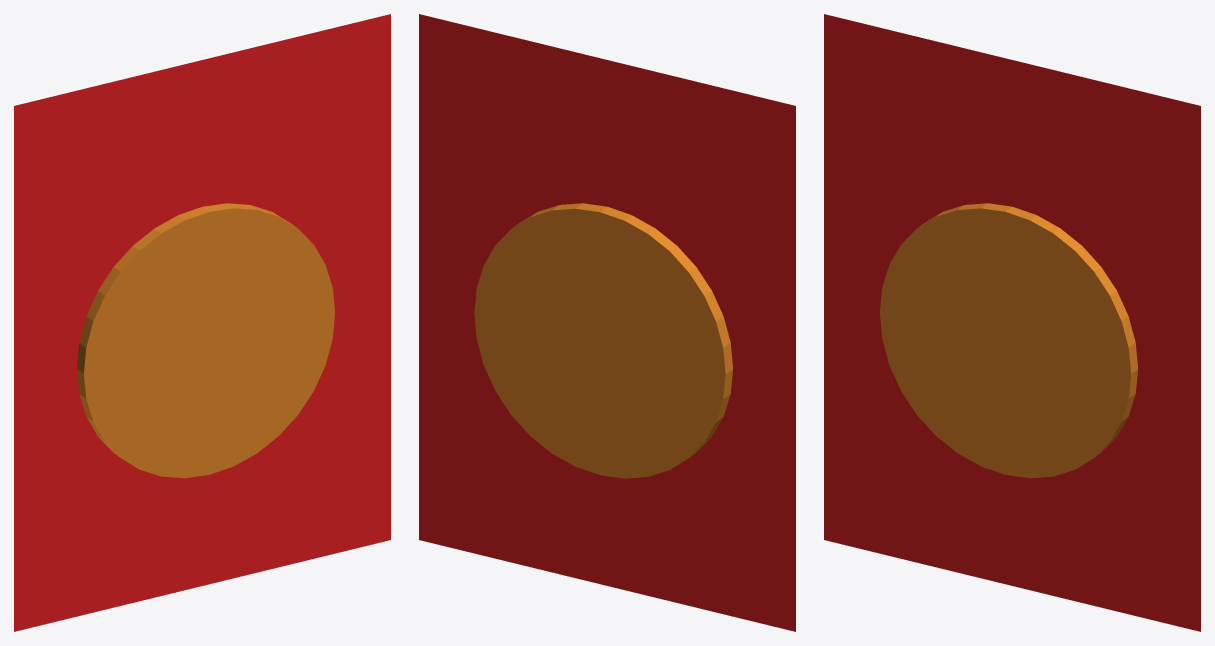
File: singularidad.fbx
3 views of the same model, side by side, from view 1: azimuth 30°, elevation 25°; view 2: azimuth 150°, elevation 25°; view 3: azimuth 330°, elevation 25° (orthographic).
Parts seen in each view (by area): view 1: Plane.001; view 2: Plane.001; view 3: Plane.001.
Part boxes in pixels (bbox=[...]): Plane.001: bbox=[14, 14, 390, 631]; Plane.001: bbox=[419, 14, 795, 631]; Plane.001: bbox=[824, 14, 1200, 631].
Size of the model in its own units: 300 by 400 by 20.
